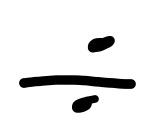div: (19, 36, 136, 113)
